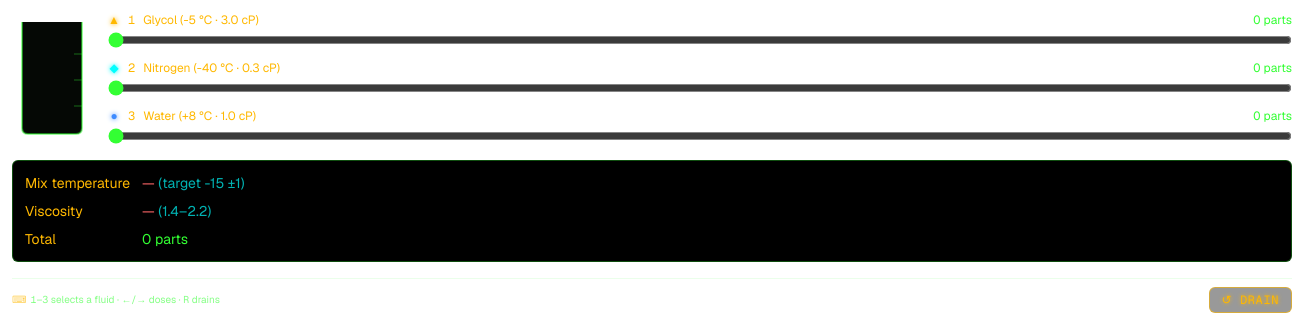
it: coolant UI › number keys focus a fluid, reset drains
This screenshot has width=1304, height=330.
Press 2
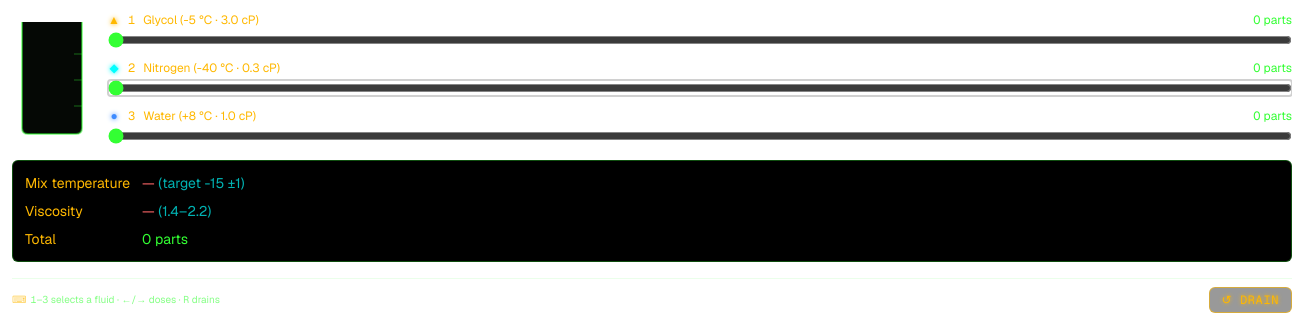
Set the slider named "Nitrogen, parts" to "4" at [583, 88], box [108,80,1292,96]
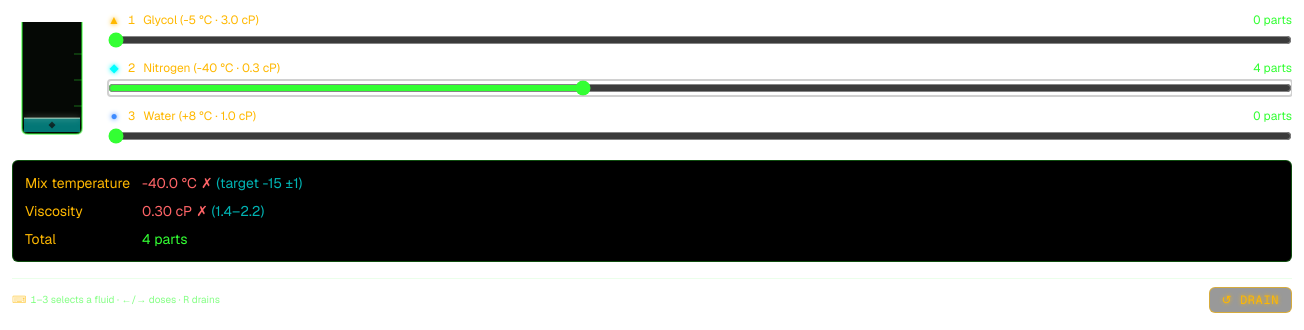
Click the button "↺ Drain" at [1250, 300], box [1208,287,1292,313]
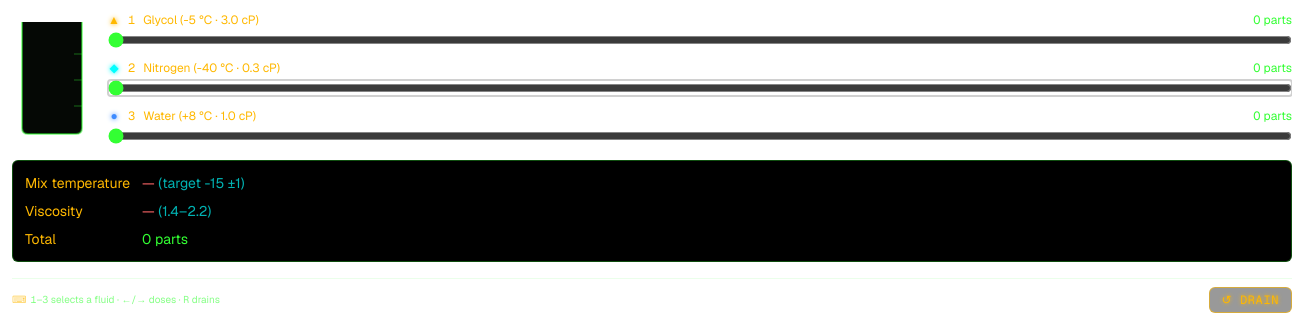
Expected: the slider named "Nitrogen, parts" holds "0", [108,80,1292,96]
